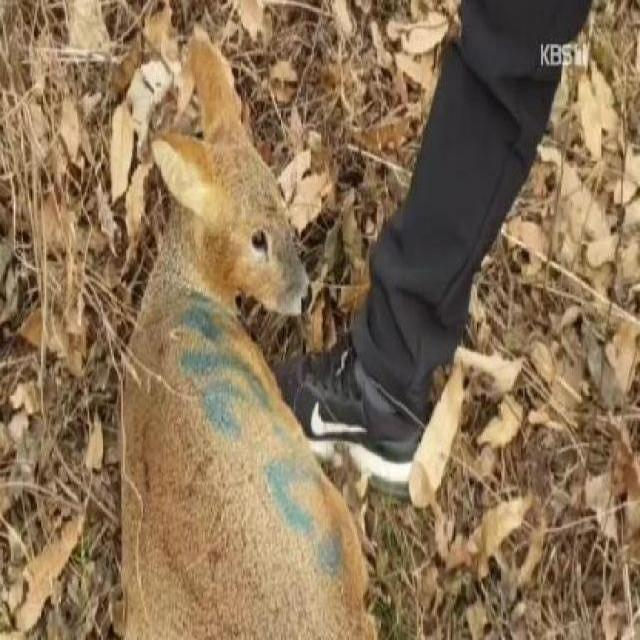deer: (104, 14, 376, 639)
